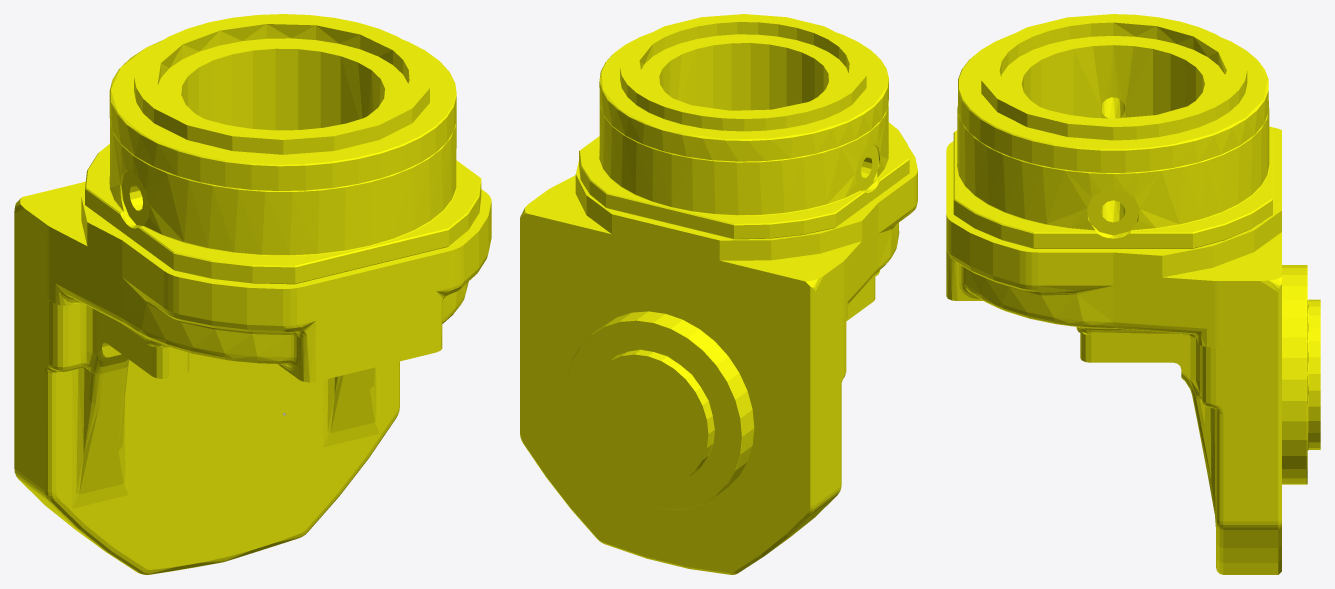
3 renders of one model, left to right at view 1: azimuth 30°, elevation 25°; view 2: azimuth 150°, elevation 25°; view 3: azimuth 270°, elevation 25°, orthographic. The views are drawn at different scales.
Visible parts, largest first — view 1: node; view 2: node; view 3: node.
Boxes of the visible parts, x1,y1,x2,y2 form: node: (14,14,491,574); node: (520,14,917,574); node: (946,14,1320,574).
Bounding box in the file's own units: 100 × 143 × 102.
